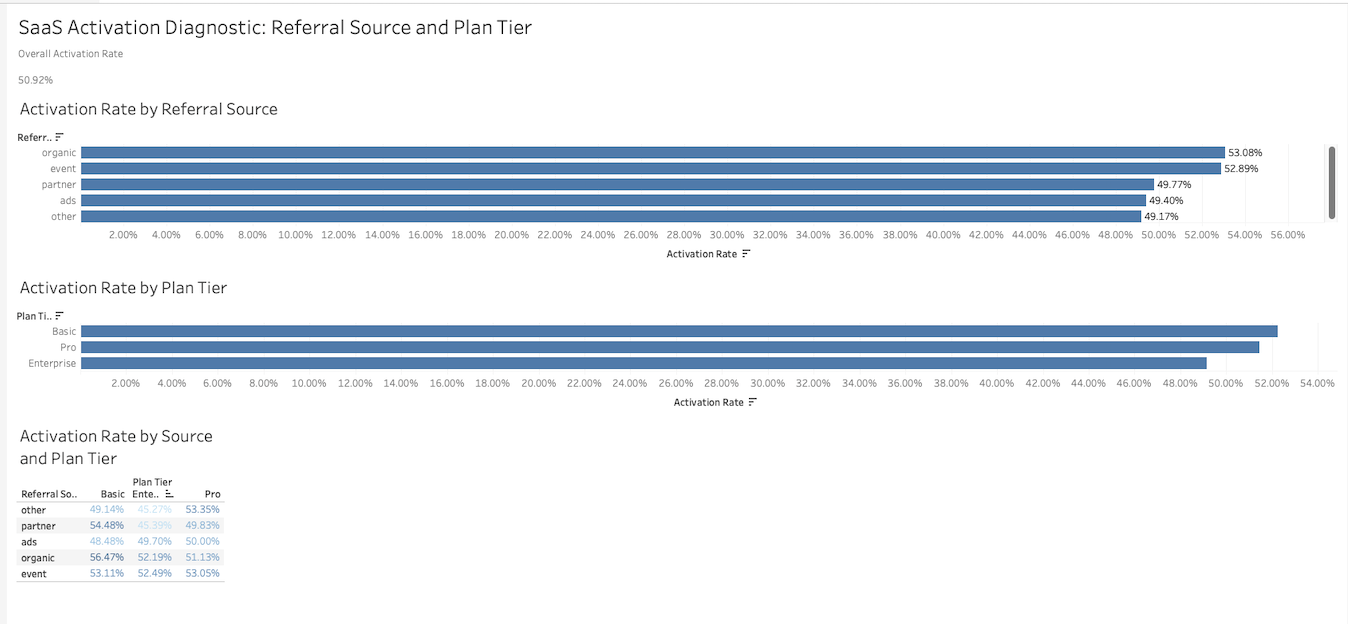

The page's visual inventory and layout, read from the dashboard file:
{"tool":"tableau","page":{"name":"SaaS Activation Diagnostic: Referral Source and Plan Tier","canvas":[1000,1000],"units":"permille","ordinal":0},"visuals":[{"type":"title","box":[9.5,9.6,981,50.2]},{"type":"text","box":[9.5,59.8,981,70.6]},{"type":"worksheet","title":"Activation Rate by Referral Source","mark":"Automatic","rows":["referral_source"],"cols":["Calculation_0535592578228224"],"box":[9.5,130.4,981,267.9]},{"type":"worksheet","title":"Activation Rate by Plan Tier","mark":"Automatic","rows":["plan_tier"],"cols":["Calculation_0535592578228224"],"box":[9.5,398.3,981,222.5]},{"type":"worksheet","title":"Activation Rate by Source and Plan Tier","mark":"Automatic","rows":["referral_source"],"cols":["plan_tier"],"box":[9.5,620.8,981,251.2]}]}

Visuals, with their boxes on the dashboard's canvas, which has no fixed pixel size, in thousandths of its width and height (x1, y1, x2, y2). These are canvas units, not pixel positions in the 1348x624 screenshot, which may show the page scaled, cropped or inside an application window:
title: crop(10, 10, 990, 60)
text: crop(10, 60, 990, 130)
"Activation Rate by Referral Source" worksheet: crop(10, 130, 990, 398)
"Activation Rate by Plan Tier" worksheet: crop(10, 398, 990, 621)
"Activation Rate by Source and Plan Tier" worksheet: crop(10, 621, 990, 872)
